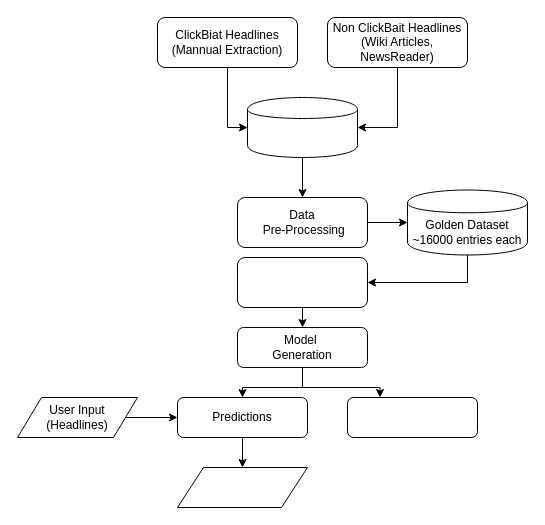
This 545x525 diagram has some shape labels left out. The centre of each missing label's shape, as x and y in pixels:
Calculated Metrics Accuracy, f1 score: the point at 412,417
Dataset ~35,343 entries: the point at 302,127
Feature Extraction: the point at 302,282
Output Results: the point at 242,487
